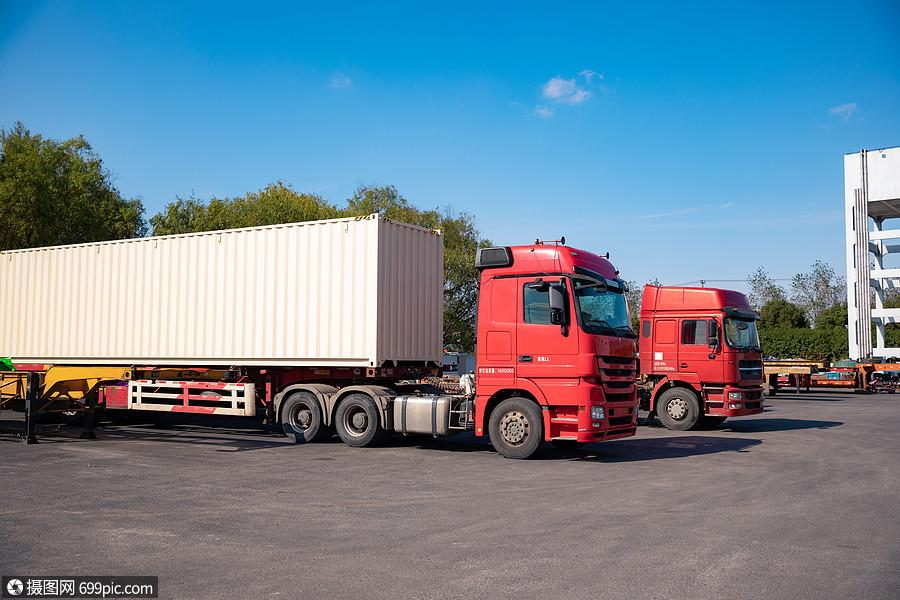卡车: (4, 181, 632, 543)
